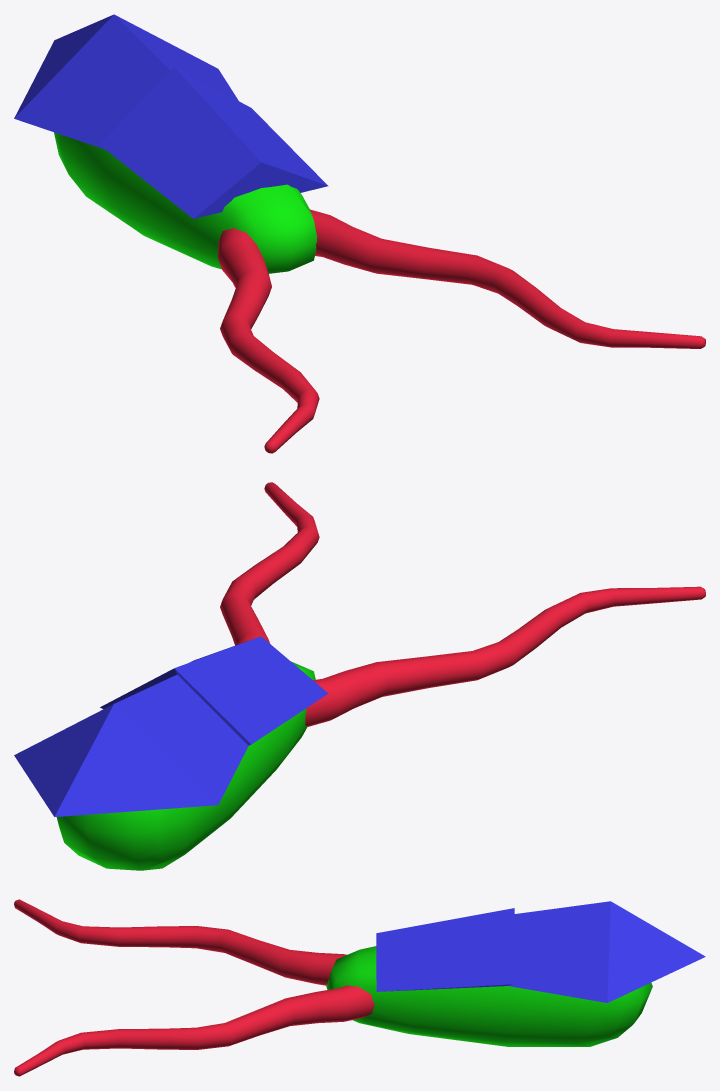
Rendered from Jellite.fbx.
The picture shows the model from 3 angles, top to bottom: view 1: azimuth 30°, elevation 25°; view 2: azimuth 150°, elevation 25°; view 3: azimuth 270°, elevation 25°; orthographic projection. The views are drawn at different scales.
Visible parts, largest first — view 1: Cube; view 2: Cube; view 3: Cube.
Boxes of the visible parts, box(x1,y1,x2,y2) form: Cube: box(14, 14, 705, 453); Cube: box(14, 482, 705, 870); Cube: box(14, 899, 705, 1076).
Size of the model in its own units: 0.8946 by 0.3384 by 1.53.
